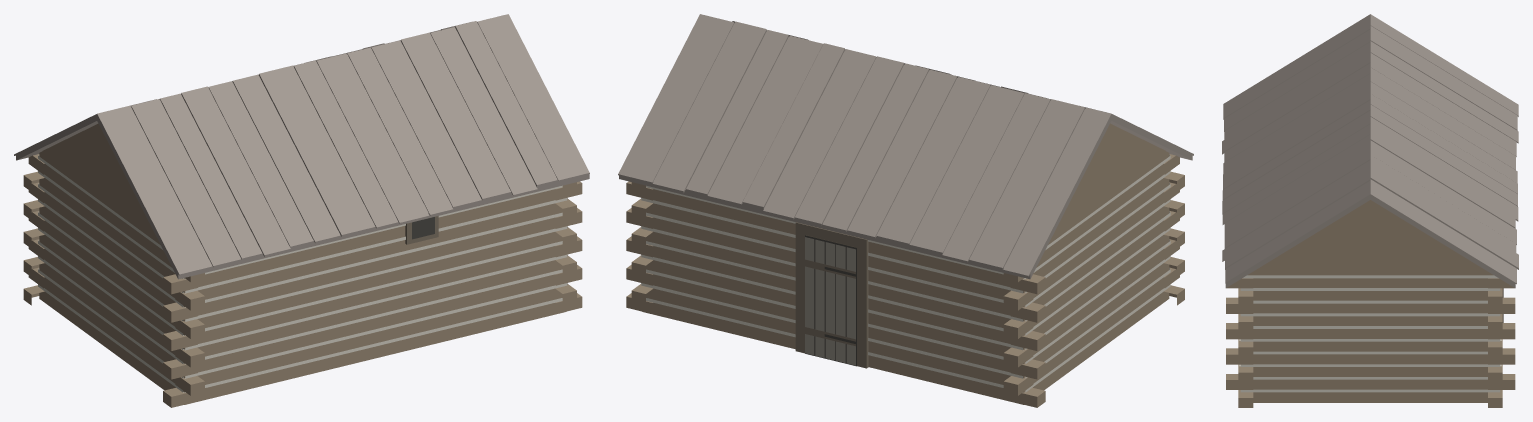
The model's file is first_fort_outer_stable_middle__first_fort_1803.glb.
The picture shows the model from 3 angles, left to right: view 1: azimuth 30°, elevation 25°; view 2: azimuth 150°, elevation 25°; view 3: azimuth 270°, elevation 25°; orthographic projection. The views are drawn at different scales.
Visible parts, largest first — view 1: first_fort_outer_stable_middle__first_fort_1803; view 2: first_fort_outer_stable_middle__first_fort_1803; view 3: first_fort_outer_stable_middle__first_fort_1803.
Part boxes in pixels (box(x1,y1,x2,y2)): first_fort_outer_stable_middle__first_fort_1803: box(14, 14, 589, 407); first_fort_outer_stable_middle__first_fort_1803: box(618, 14, 1193, 407); first_fort_outer_stable_middle__first_fort_1803: box(1222, 14, 1518, 407).
Bounding box in the file's own units: 6.83 × 3.84 × 4.78.
